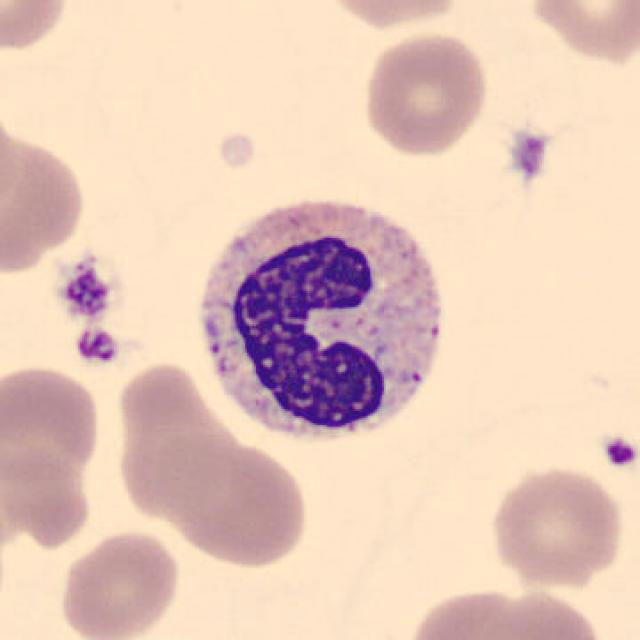Neutrophil: (185, 187, 460, 465)
Platelets: (57, 261, 114, 321), (505, 125, 551, 185), (210, 130, 259, 174), (73, 324, 123, 367), (598, 432, 638, 472)
RBC: (155, 432, 313, 571), (108, 362, 238, 517), (484, 460, 630, 592), (359, 28, 493, 160), (0, 116, 91, 278), (55, 527, 183, 640), (0, 361, 105, 487), (0, 432, 96, 556), (402, 582, 580, 640), (524, 0, 638, 67), (486, 585, 614, 640), (316, 0, 469, 32), (0, 0, 73, 56)
